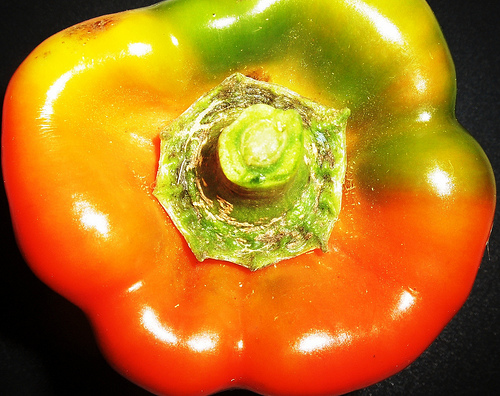capsicum: (3, 0, 498, 395)
